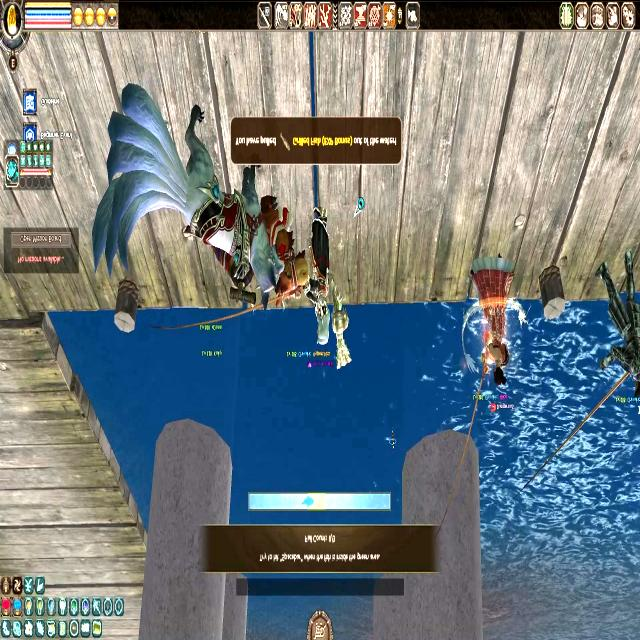fishes: (302, 494, 313, 510)
